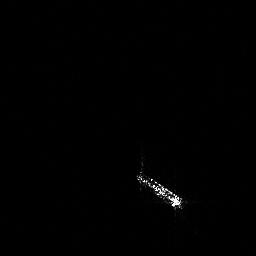ship: (133, 165, 190, 214)
